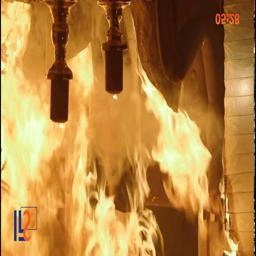fire: (3, 32, 212, 254)
